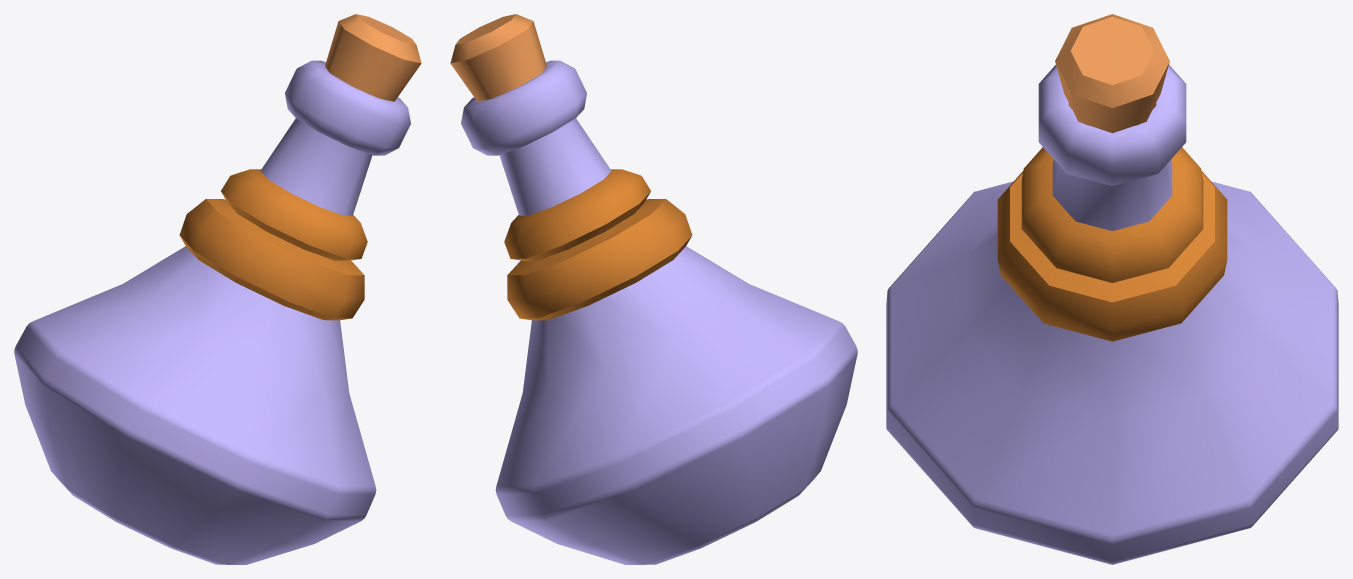
3 renders of one model, left to right at view 1: azimuth 30°, elevation 25°; view 2: azimuth 150°, elevation 25°; view 3: azimuth 270°, elevation 25°, orthographic. The views are drawn at different scales.
Visible parts, largest first — view 1: model_0.081; view 2: model_0.081; view 3: model_0.081.
Part boxes in pixels (bbox=[...]): model_0.081: bbox=[14, 14, 421, 564]; model_0.081: bbox=[450, 14, 857, 564]; model_0.081: bbox=[886, 14, 1338, 564].
Bounding box in the file's own units: 3.15 × 4 × 2.71.
